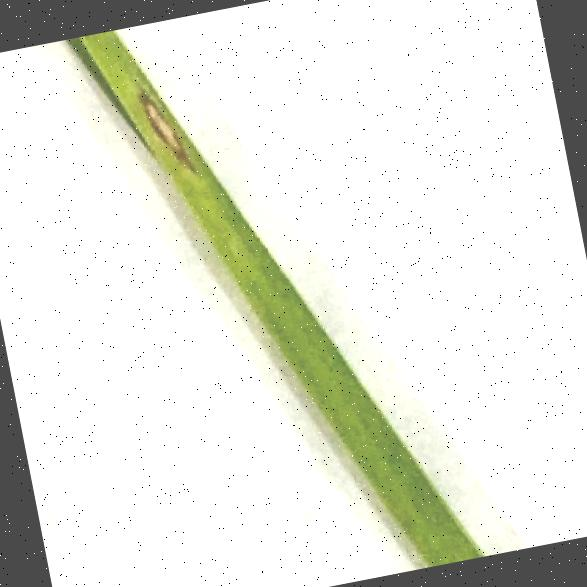Leaf_smut: (120, 70, 220, 187)
